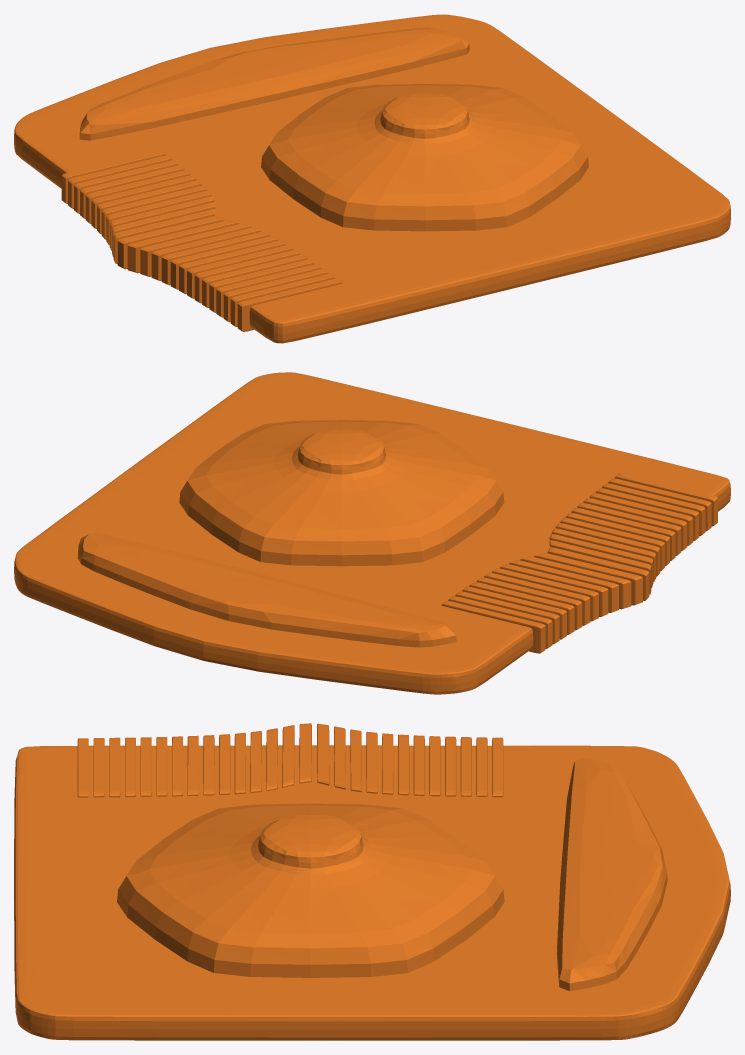
Rendered from disk_low.fbx.
3 renders of one model, top to bottom at view 1: azimuth 30°, elevation 25°; view 2: azimuth 150°, elevation 25°; view 3: azimuth 270°, elevation 25°, orthographic. The views are drawn at different scales.
Visible parts, largest first — view 1: base_low, drive_low, chip_low, ruin_low; view 2: base_low, drive_low, chip_low, ruin_low; view 3: base_low, drive_low, chip_low, ruin_low.
Boxes of the visible parts, bbox=[...] form: base_low: bbox=[14, 14, 730, 343]; drive_low: bbox=[261, 84, 588, 231]; chip_low: bbox=[61, 150, 342, 331]; ruin_low: bbox=[79, 27, 469, 140]; base_low: bbox=[14, 372, 730, 694]; drive_low: bbox=[179, 420, 504, 566]; chip_low: bbox=[441, 473, 717, 653]; ruin_low: bbox=[77, 532, 456, 647]; base_low: bbox=[14, 745, 730, 1040]; drive_low: bbox=[117, 803, 504, 977]; chip_low: bbox=[77, 723, 503, 797]; ruin_low: bbox=[556, 758, 667, 991].
Size of the model in its own units: 214 by 41.26 by 222.
